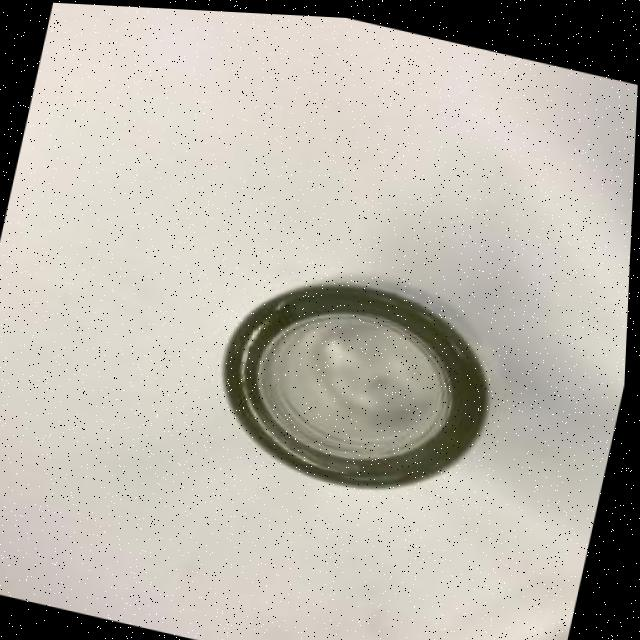glass: (183, 241, 531, 525)
